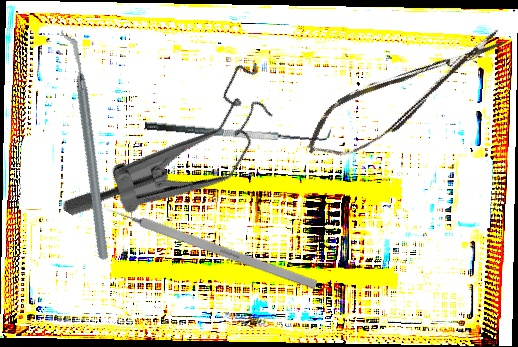Chopper: (3, 29, 167, 262)
Hook Surgical: (98, 201, 318, 291)
Micro Scissor: (294, 17, 518, 172)
Spatula Surgical: (144, 106, 332, 151)
Speculum: (57, 14, 295, 280)
